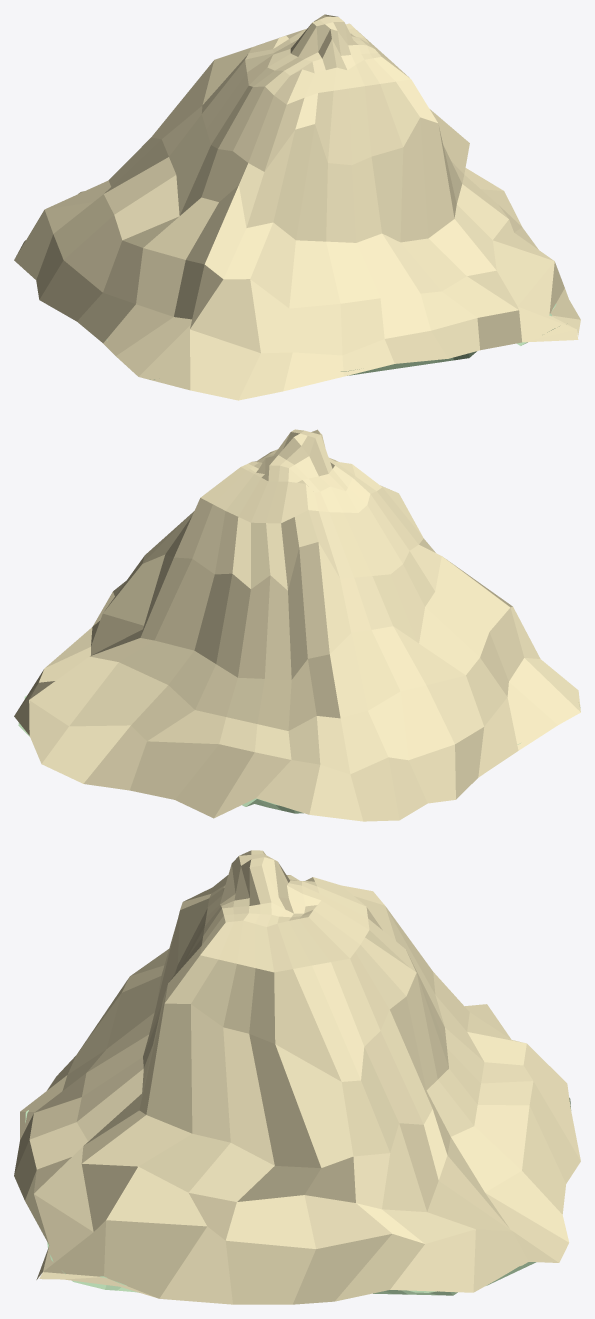
The model's file is stone1.gltf.
3 renders of one model, top to bottom at view 1: azimuth 30°, elevation 25°; view 2: azimuth 150°, elevation 25°; view 3: azimuth 270°, elevation 25°, orthographic. The views are drawn at different scales.
Visible parts, largest first — view 1: Plane.001; view 2: Plane.001; view 3: Plane.001.
Part boxes in pixels (<box>): Plane.001: <box>14,14,580,400</box>; Plane.001: <box>14,429,580,821</box>; Plane.001: <box>14,850,580,1304</box>.
Bounding box in the file's own units: 3.13 × 1.91 × 2.92.
